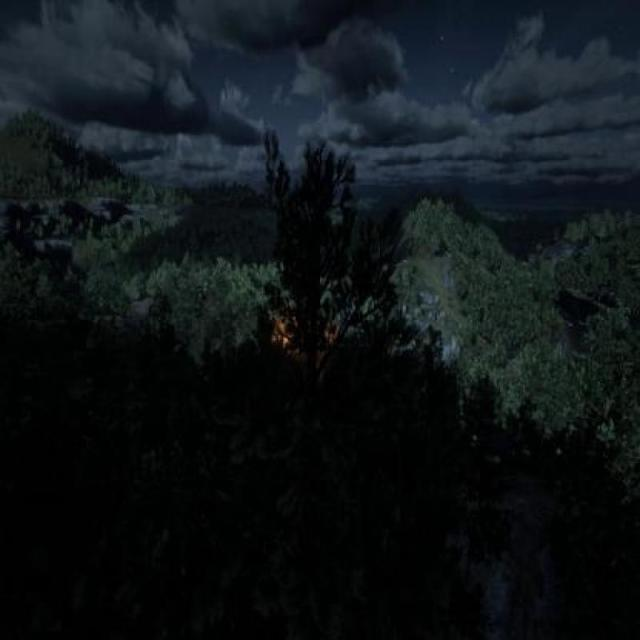Fire: (258, 304, 308, 342)
